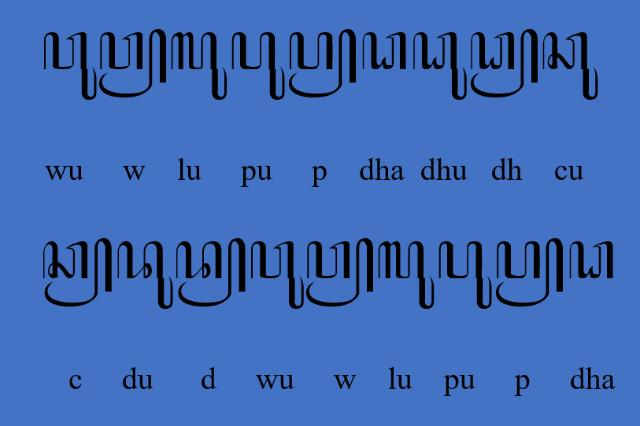-c: (42, 234, 114, 310)
-d: (175, 236, 247, 310)
-dh: (470, 28, 540, 98)
-p: (494, 237, 564, 309), (287, 28, 357, 98)
-w: (99, 29, 168, 100), (306, 237, 374, 309)
cu: (542, 30, 600, 102)
dh: (568, 239, 614, 282), (362, 30, 408, 71)
dhu: (412, 30, 468, 101)
du: (116, 240, 174, 310)
lu: (172, 30, 228, 102), (378, 240, 434, 310)
pu: (230, 30, 286, 102), (438, 240, 492, 312)
wu: (42, 31, 98, 101), (250, 241, 306, 311)
